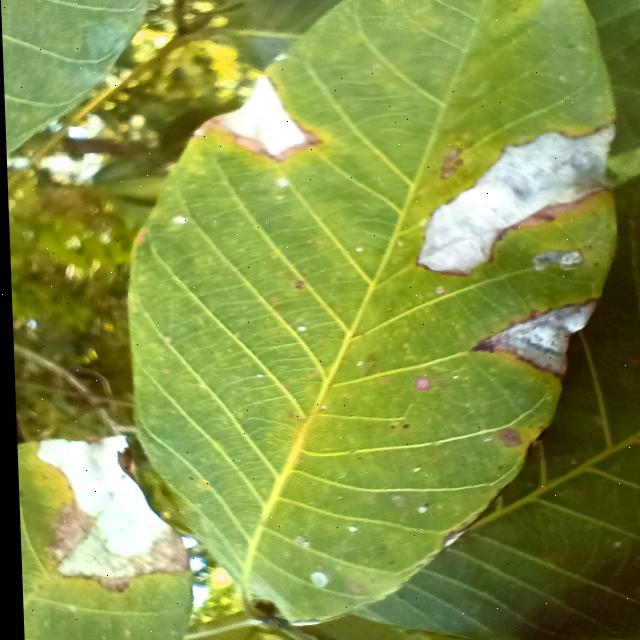Colletotrichum: (397, 423, 405, 429)
Leaf-Blight: (410, 126, 616, 274), (30, 436, 186, 594), (483, 301, 592, 374), (209, 77, 308, 155)
